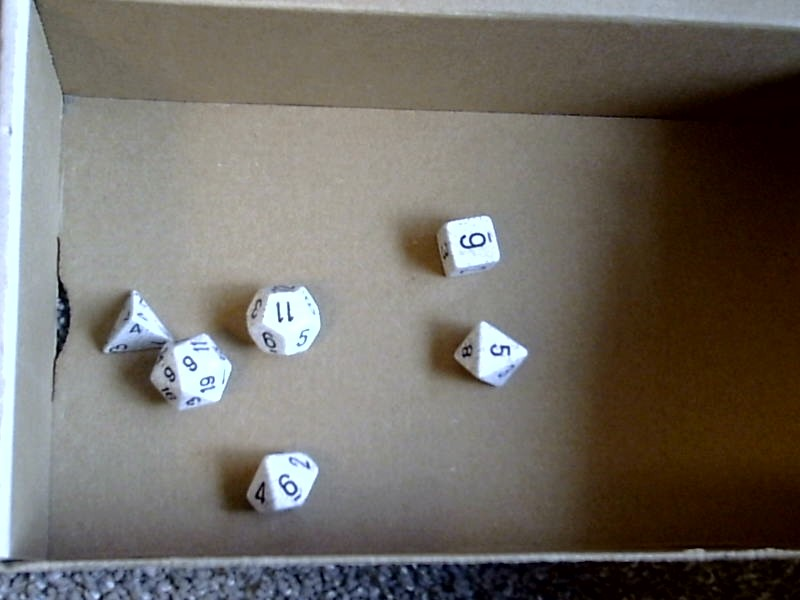d10 6: (236, 449, 326, 520)
d12 11: (241, 271, 323, 376)
d20 9: (151, 332, 240, 424)
d4 4: (92, 284, 171, 357)
d6 6: (426, 208, 505, 284)
d8 5: (446, 316, 532, 399)
